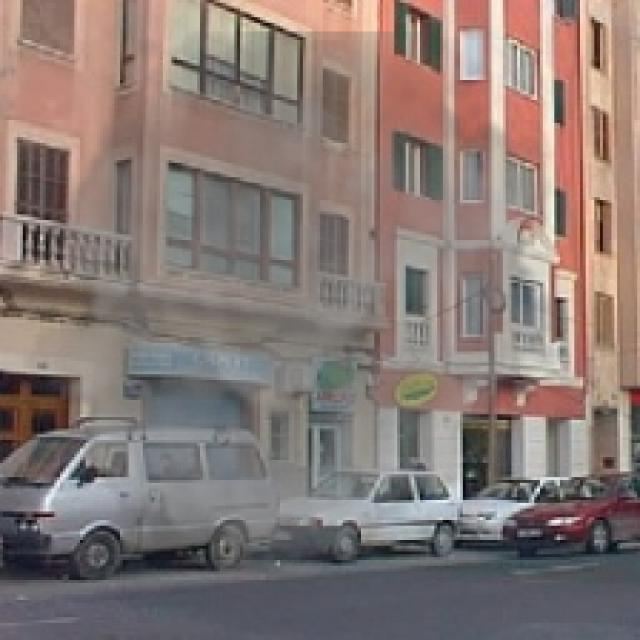Smoke: (22, 32, 574, 574)
